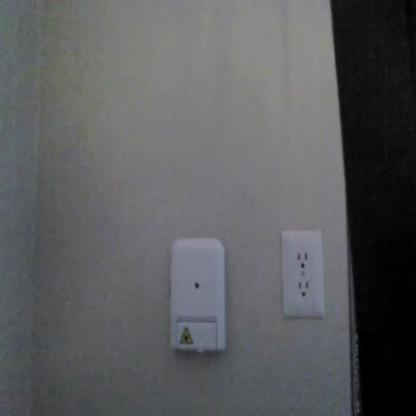OUTLET: (280, 230, 324, 316)
